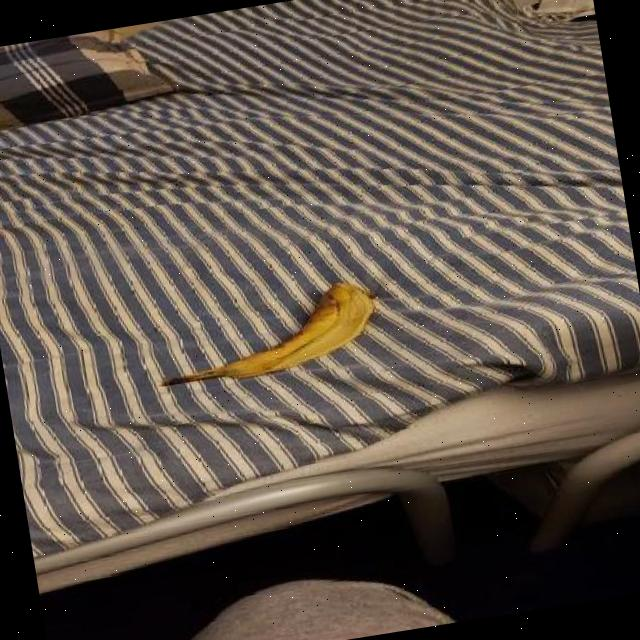banana-peel: (148, 274, 384, 392)
